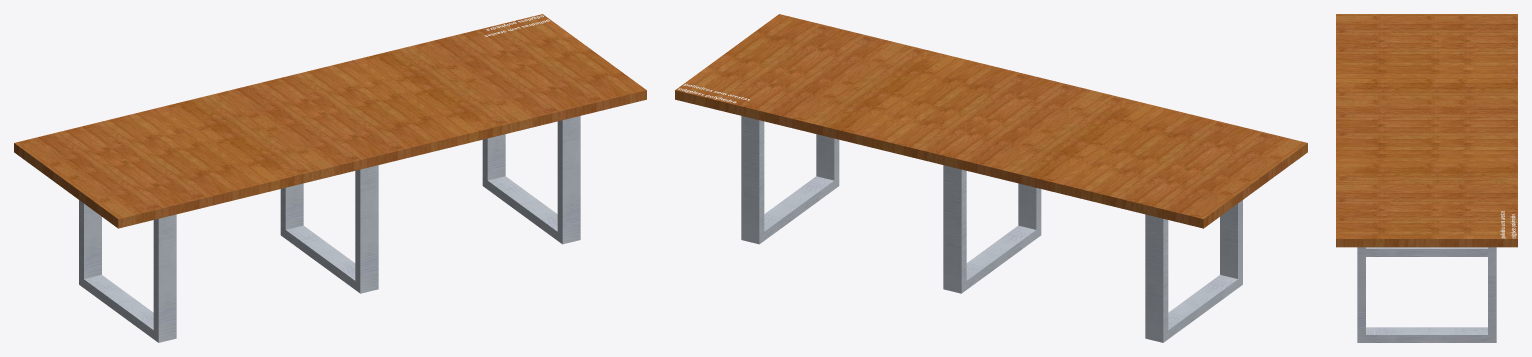
The model's file is mesa_Arquimedes4.glb.
3 renders of one model, left to right at view 1: azimuth 30°, elevation 25°; view 2: azimuth 150°, elevation 25°; view 3: azimuth 270°, elevation 25°, orthographic. The views are drawn at different scales.
Visible parts, largest first — view 1: object 1, Composant#1 (×3); view 2: object 1, Composant#1 (×3); view 3: object 1, Composant#1 (×2), poliedros sem ar#1.
Part boxes in pixels (x1,y1,x2,y2): object 1: (14,14,646,228); Composant#1 (×3): (79,116,580,342); object 1: (675,14,1307,228); Composant#1 (×3): (741,116,1242,342); object 1: (1336,14,1517,247); Composant#1 (×2): (1357,247,1496,342); poliedros sem ar#1: (1500,211,1516,238).
Bounding box in the file's own units: 2.93 × 0.771 × 1.
Materials: 3 (2 with a texture image).
